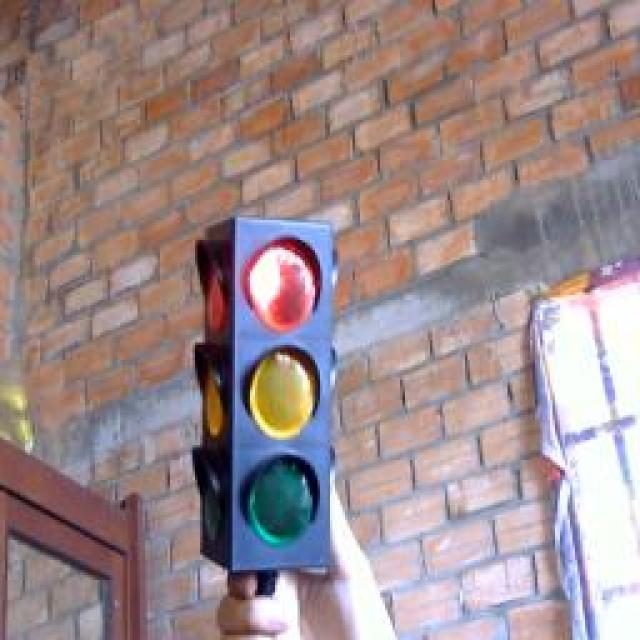-: (234, 221, 326, 341)
